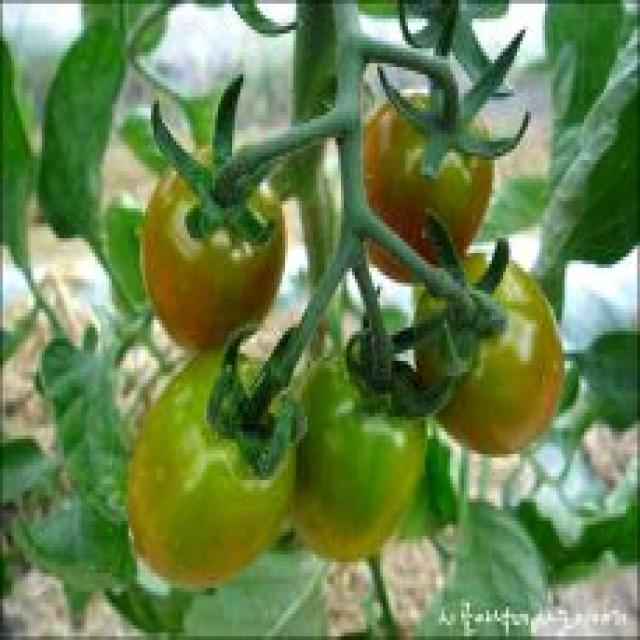level 2: (270, 326, 442, 572)
level 3: (122, 340, 304, 599), (406, 245, 572, 472)
level 4: (131, 140, 302, 358), (342, 74, 502, 288)
